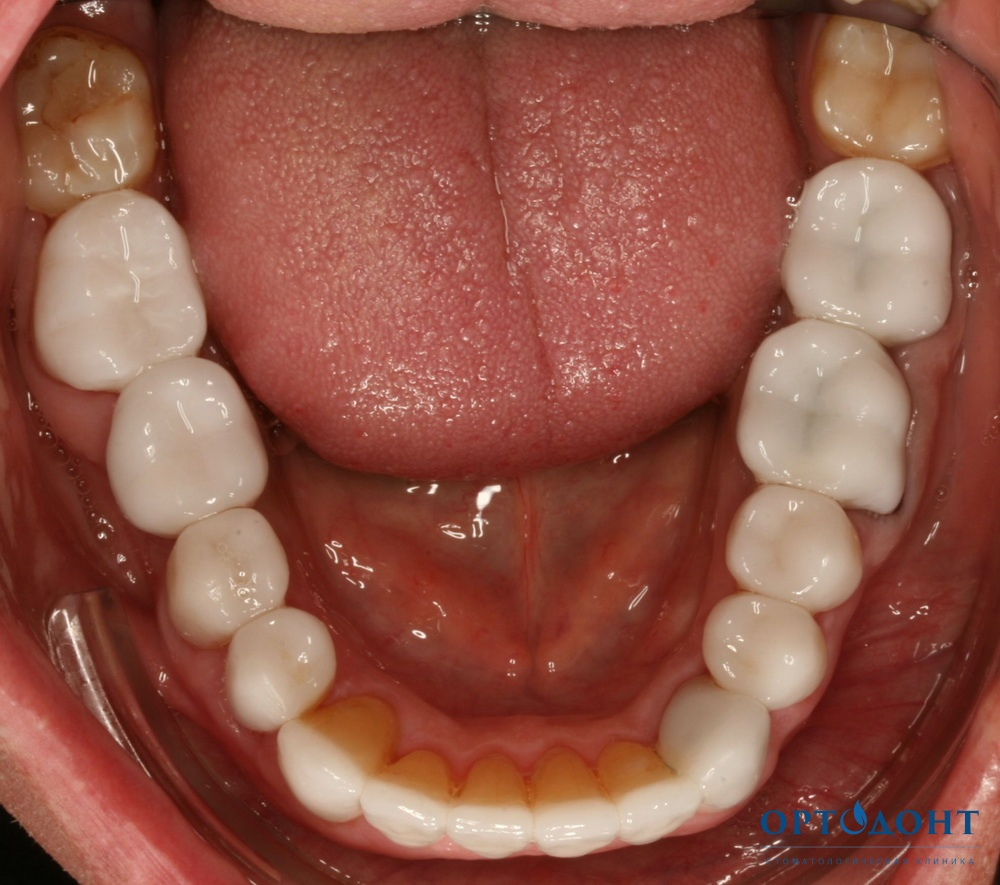LL1BC_healthy: (700, 590, 830, 711)
LL1M_healthy: (736, 321, 920, 525)
LL2BC_healthy: (722, 486, 865, 610)
LL2M_healthy: (781, 156, 959, 338)
LL3M_healthy: (811, 16, 950, 166)
LLCI_healthy: (527, 744, 622, 859)
LLC_healthy: (653, 675, 768, 811)
LLLI_healthy: (597, 736, 697, 847)
LR1BC_healthy: (222, 604, 341, 733)
LR1M_healthy: (104, 357, 272, 541)
LR2BC_healthy: (166, 504, 295, 651)
LR2M_healthy: (33, 190, 211, 398)
LR3M_decay: (11, 22, 160, 218)
LRCI_healthy: (450, 746, 529, 858)
LRC_healthy: (277, 690, 402, 830)
LRLI_healthy: (362, 745, 457, 855)
